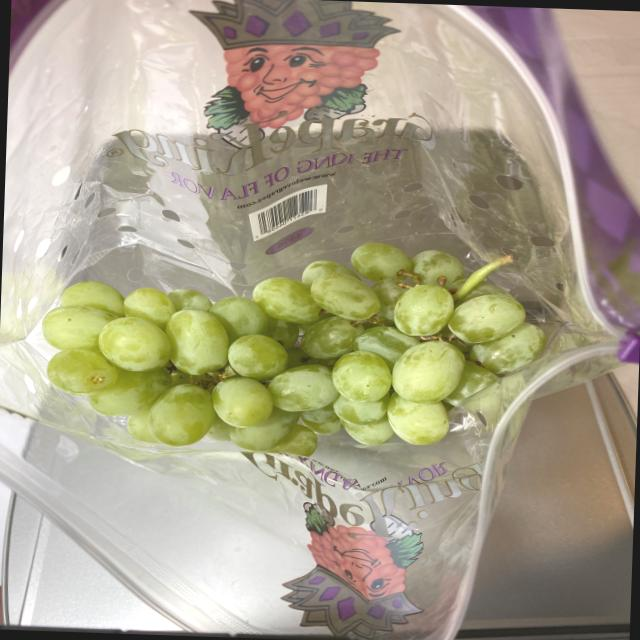grapes: (36, 233, 555, 454)
